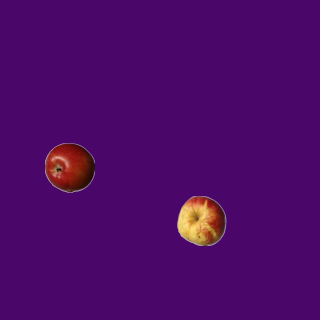Apple Braeburn: (44, 142, 94, 192)
Apple Red Yellow 1: (176, 195, 226, 245)
